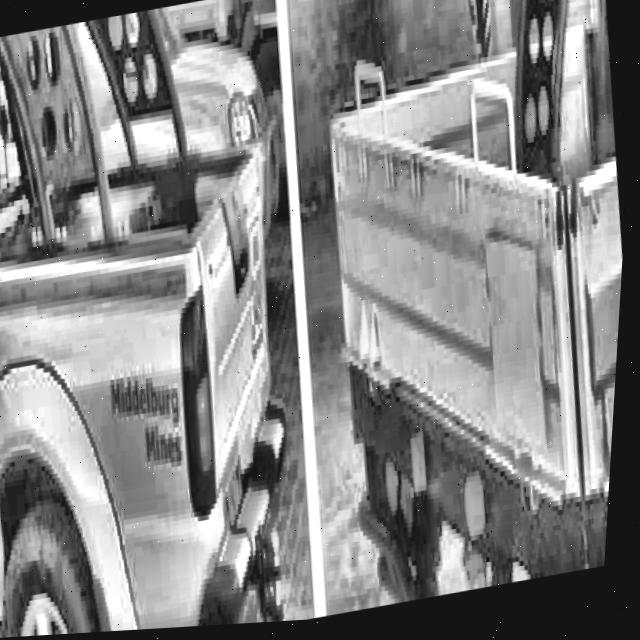light_vehicle: (282, 0, 640, 619), (0, 0, 333, 640)
